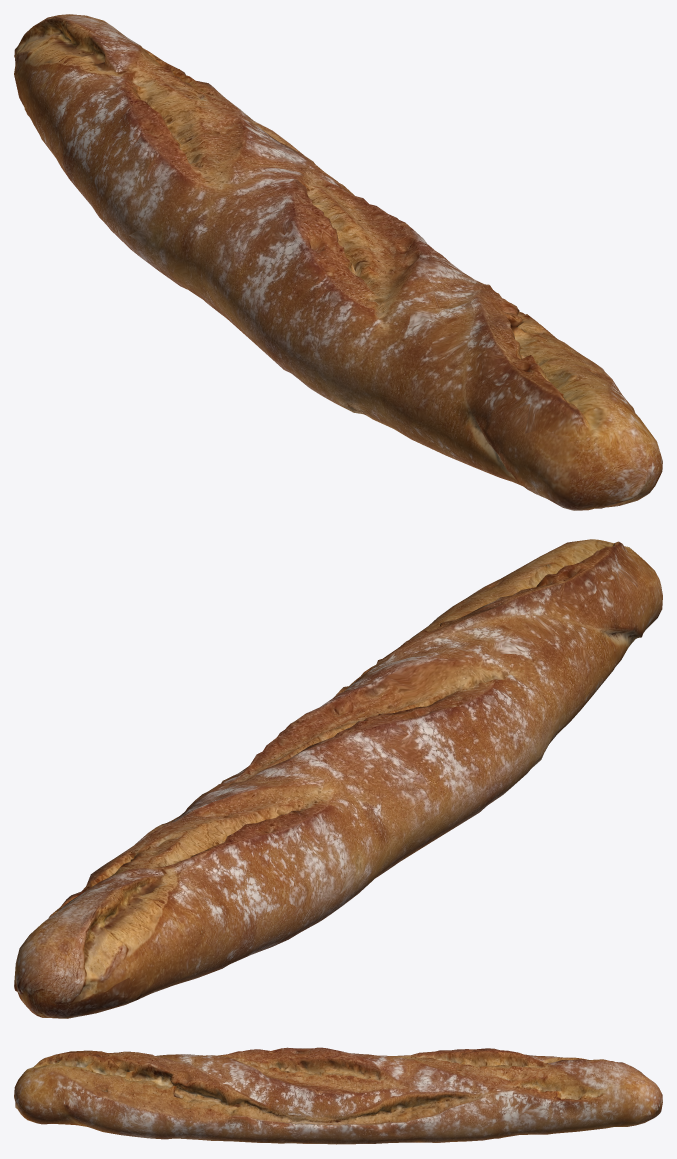
File: french_baguette.glb
3 renders of one model, top to bottom at view 1: azimuth 30°, elevation 25°; view 2: azimuth 150°, elevation 25°; view 3: azimuth 270°, elevation 25°, orthographic. The views are drawn at different scales.
Visible parts, largest first — view 1: 3DModel_1; view 2: 3DModel_1; view 3: 3DModel_1.
Part boxes in pixels (x1=…): 3DModel_1: x1=14, y1=14, x2=662, y2=510; 3DModel_1: x1=14, y1=539, x2=662, y2=1018; 3DModel_1: x1=14, y1=1047, x2=662, y2=1144.
Size of the model in its own units: 0.0641 by 0.0377 by 0.3227.
1 material, 1 textured.
